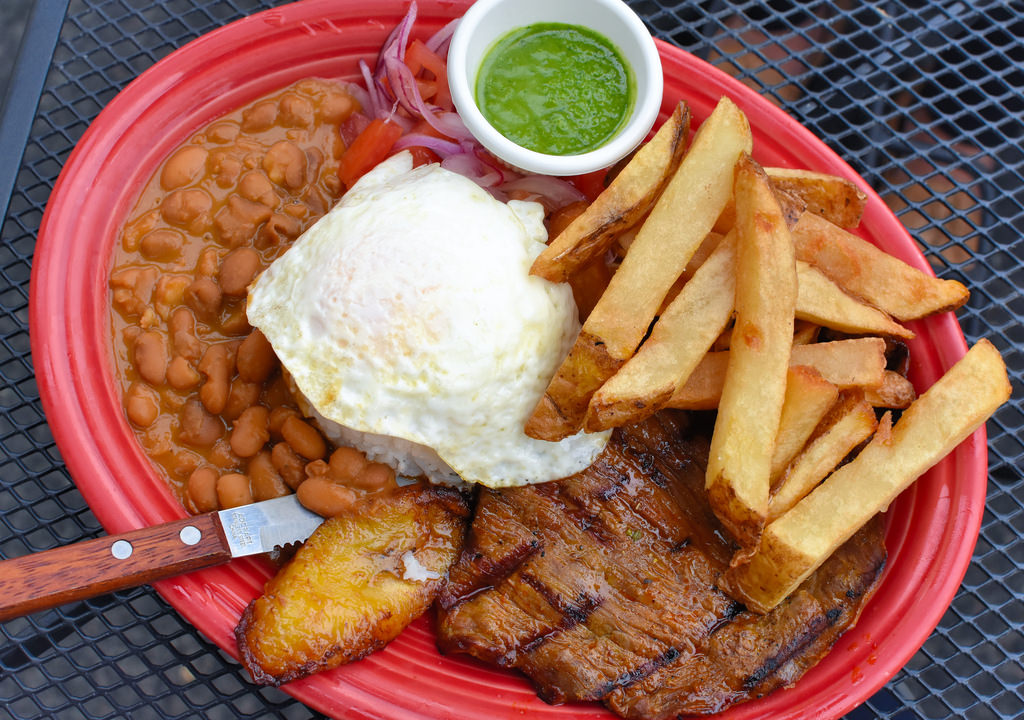boiled peas: (101, 61, 381, 521)
fried egg: (255, 162, 609, 500)
